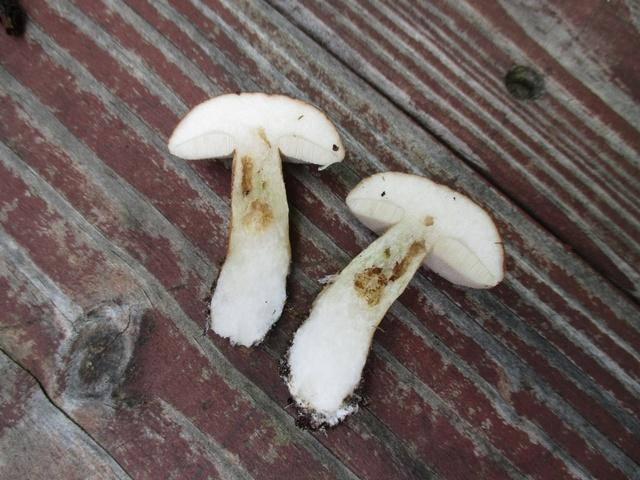Non-edible Mushroom: (284, 169, 506, 430), (166, 90, 346, 348)
